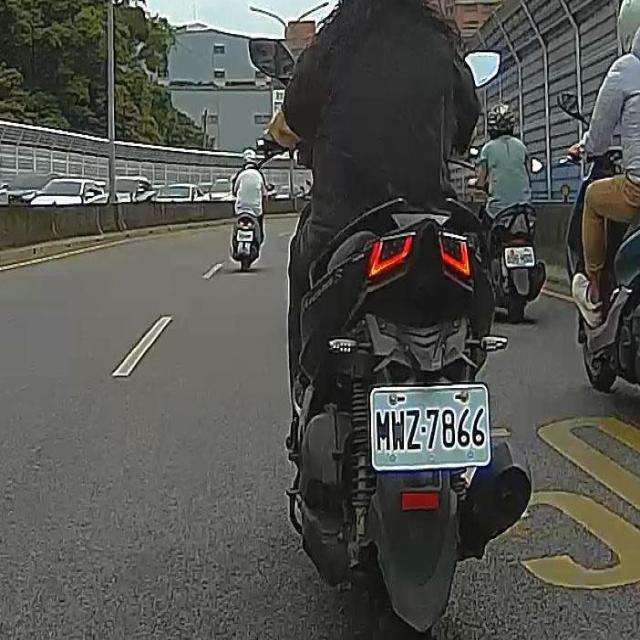license-plate: (370, 386, 492, 467)
